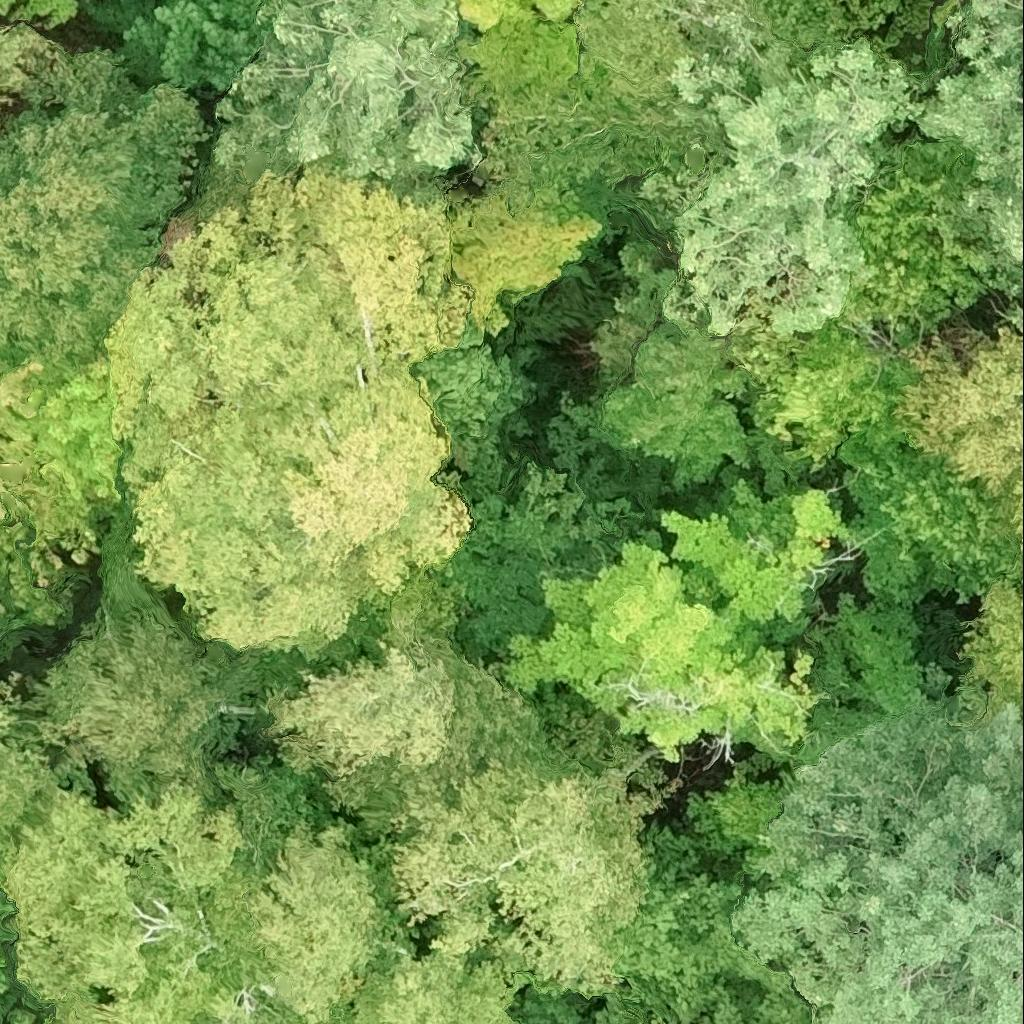crown: (105, 162, 473, 666), (733, 659, 1023, 1023), (639, 15, 934, 335), (0, 756, 306, 1023), (505, 544, 829, 761), (0, 51, 213, 375), (369, 765, 649, 997), (477, 0, 758, 224), (262, 638, 564, 843), (256, 802, 528, 1023), (214, 0, 480, 199), (590, 239, 762, 486), (13, 608, 230, 801), (724, 589, 927, 775), (717, 296, 924, 475), (0, 350, 121, 644), (917, 0, 1023, 334), (614, 828, 785, 1023), (835, 137, 1000, 328), (662, 480, 851, 641), (846, 440, 1023, 608), (895, 308, 1023, 490), (457, 0, 581, 119), (0, 673, 78, 834), (686, 767, 796, 870), (961, 562, 1023, 720), (0, 21, 72, 109), (760, 959, 820, 1023), (0, 896, 17, 1023), (604, 989, 661, 1023), (0, 0, 74, 26), (1003, 468, 1023, 528)
